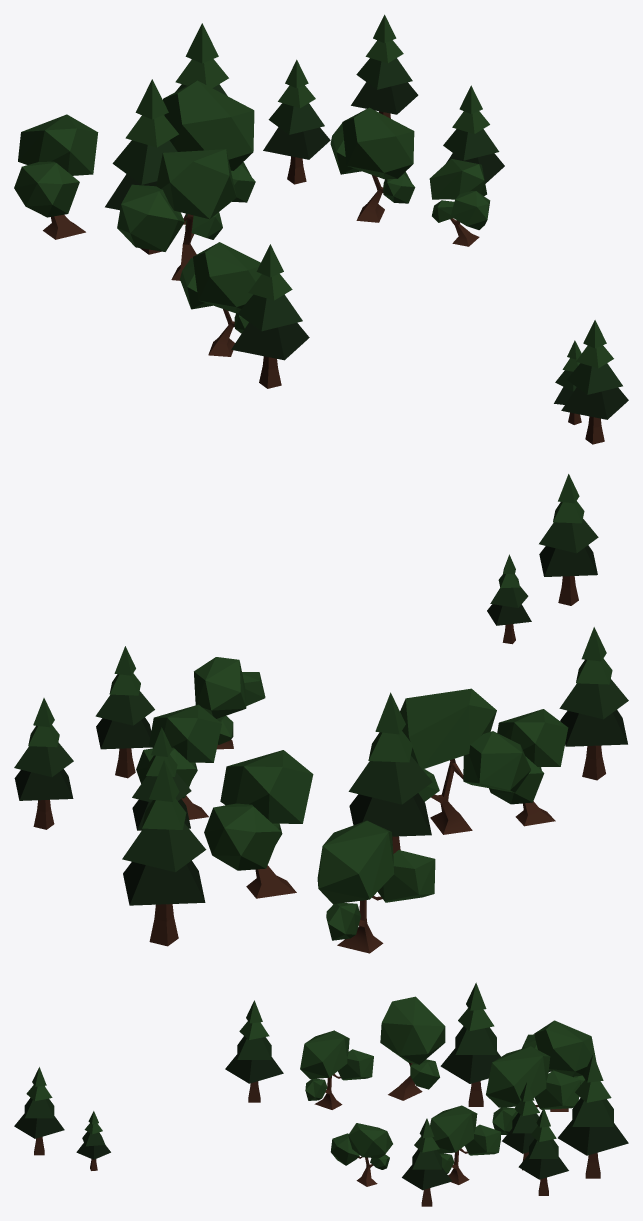
Rendered from grupo arboles decoracion.FBX.
The picture shows the model from 3 angles, top to bottom: view 1: azimuth 30°, elevation 25°; view 2: azimuth 150°, elevation 25°; view 3: azimuth 270°, elevation 25°; orthographic projection. The views are drawn at different scales.
Parts seen in each view (by area): view 1: pino02, pino04, pino03, pino05, pino, pino01, pino006, pino009, pino010, pino00, pino020, pino008 (+2 smaller); view 2: pino02, pino03, pino04, pino007, pino006, pino, pino01, pino020, pino010, pino008, pino05, pino00 (+2 smaller); view 3: pino03, pino02, pino007, pino01, pino006, pino05, pino04, pino, pino00, pino010, pino008, pino020 (+2 smaller).
Boxes of the visible parts, left/top/right/bottom form: pino02: left=117, top=149, right=236, bottom=280; pino04: left=14, top=114, right=98, bottom=239; pino03: left=163, top=80, right=255, bottom=224; pino05: left=330, top=107, right=415, bottom=222; pino: left=231, top=244, right=309, bottom=388; pino01: left=180, top=242, right=261, bottom=356; pino006: left=105, top=79, right=178, bottom=254; pino009: left=263, top=59, right=330, bottom=184; pino010: left=561, top=320, right=628, bottom=444; pino00: left=429, top=159, right=490, bottom=246; pino020: left=351, top=14, right=418, bottom=118; pino008: left=443, top=85, right=504, bottom=183; pino02: left=400, top=688, right=530, bottom=834; pino03: left=204, top=750, right=313, bottom=898; pino04: left=317, top=820, right=435, bottom=953; pino007: left=122, top=760, right=206, bottom=946; pino006: left=348, top=692, right=432, bottom=853; pino: left=559, top=627, right=628, bottom=780; pino01: left=489, top=709, right=568, bottom=826; pino020: left=14, top=698, right=73, bottom=829; pino010: left=539, top=474, right=598, bottom=605; pino008: left=95, top=646, right=154, bottom=778; pino05: left=136, top=704, right=221, bottom=819; pino00: left=194, top=657, right=265, bottom=749; pino03: left=486, top=1046, right=580, bottom=1134; pino02: left=380, top=996, right=445, bottom=1100; pino007: left=558, top=1054, right=628, bottom=1178; pino01: left=300, top=1030, right=373, bottom=1109; pino006: left=440, top=982, right=500, bottom=1106; pino05: left=430, top=1105, right=501, bottom=1184; pino04: left=521, top=1020, right=596, bottom=1111; pino: left=225, top=1000, right=283, bottom=1102; pino00: left=330, top=1123, right=392, bottom=1186; pino010: left=14, top=1067, right=64, bottom=1155; pino008: left=402, top=1118, right=452, bottom=1206; pino020: left=518, top=1107, right=568, bottom=1195.
Bounding box in the file's own units: 325 × 160 × 606.
